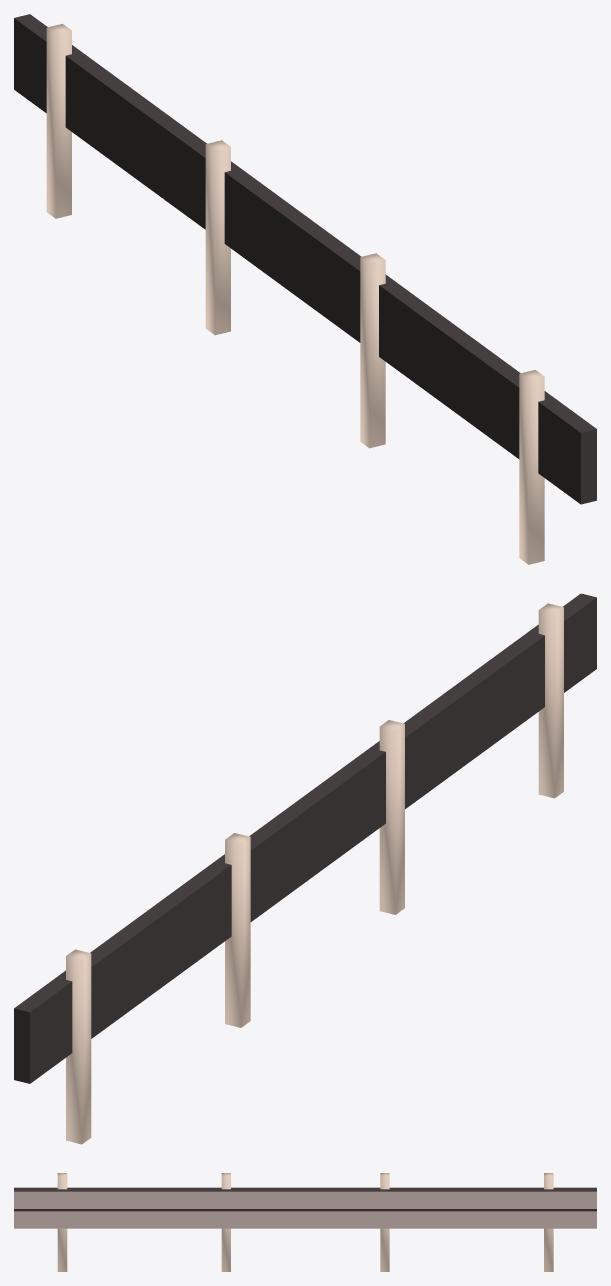
Rendered from fence01.fbx.
The picture shows the model from 3 angles, top to bottom: view 1: azimuth 30°, elevation 25°; view 2: azimuth 150°, elevation 25°; view 3: azimuth 270°, elevation 25°; orthographic projection. The views are drawn at different scales.
Parts seen in each view (by area): view 1: fence02, fence01; view 2: fence02, fence01; view 3: fence03, fence02, fence01.
Part boxes in pixels (<box>): fence02: <box>14,14,596,504</box>; fence01: <box>46,23,544,564</box>; fence02: <box>14,593,596,1083</box>; fence01: <box>66,603,563,1144</box>; fence03: <box>14,1191,596,1228</box>; fence02: <box>14,1187,596,1211</box>; fence01: <box>57,1173,553,1271</box>.
Bounding box in the file's own units: 0.3936 × 2.69 × 15.01.
